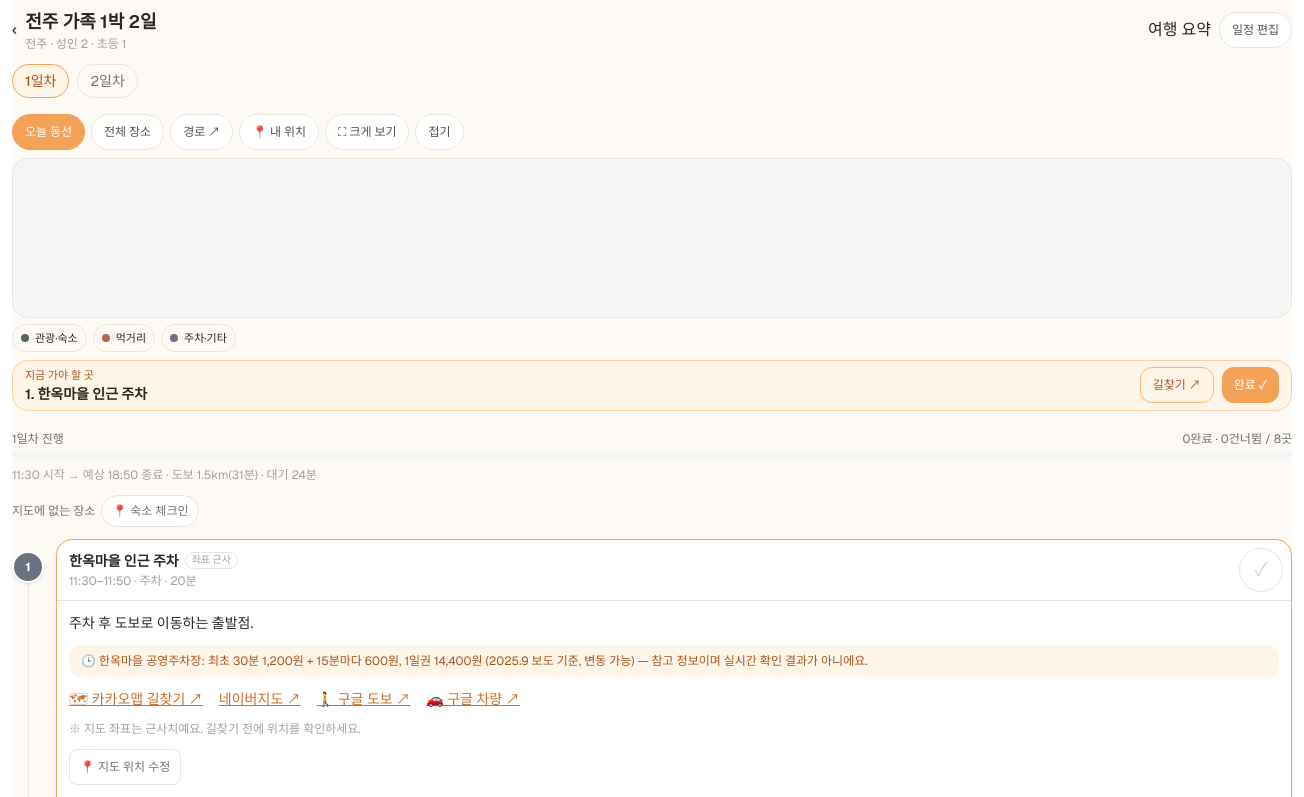
Test: 지도와 목록 › 날짜를 바꾸면 목록과 지도가 함께 바뀌고, 지금 장소는 그 날의 첫 장소
Click the button "2일차" at {"x": 108, "y": 81}, box [78,64,138,98]
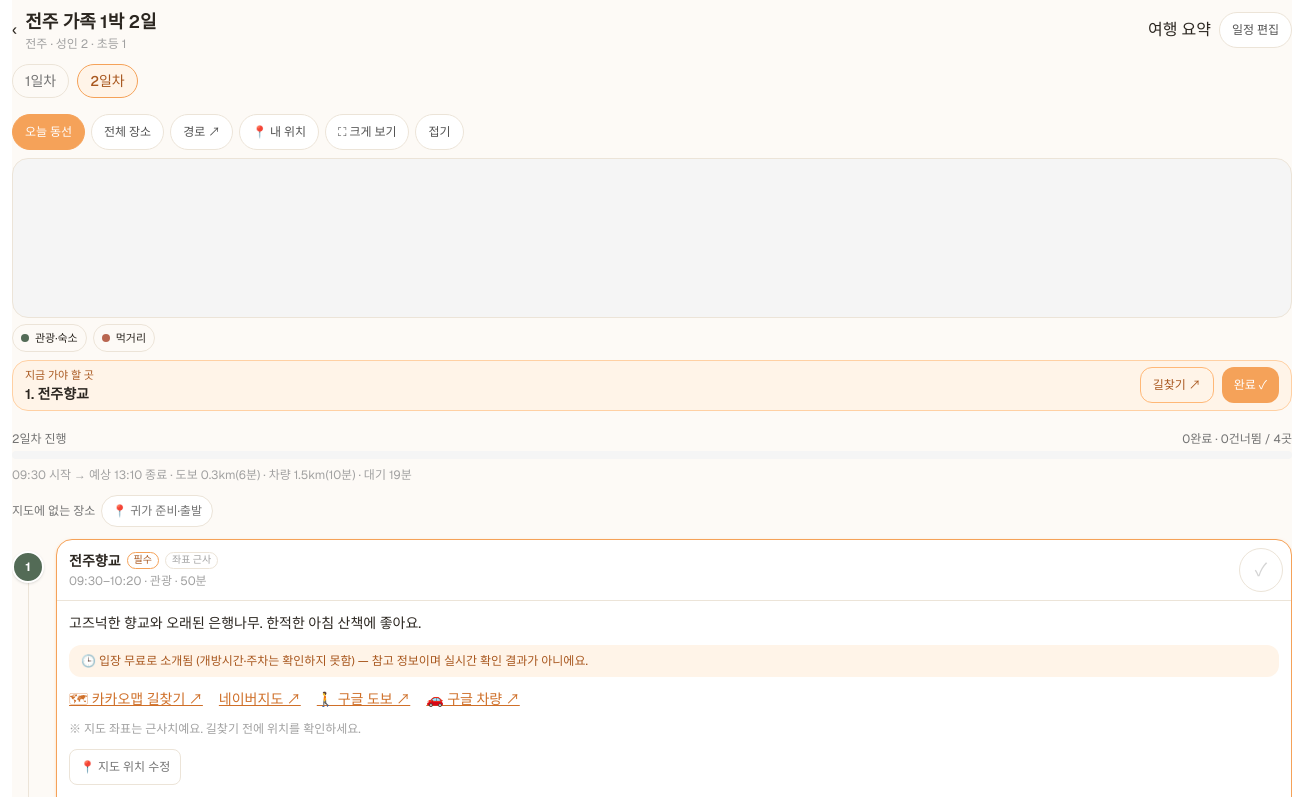
Now the text "1. 전주향교" is shown, box [25,384,89,402]
